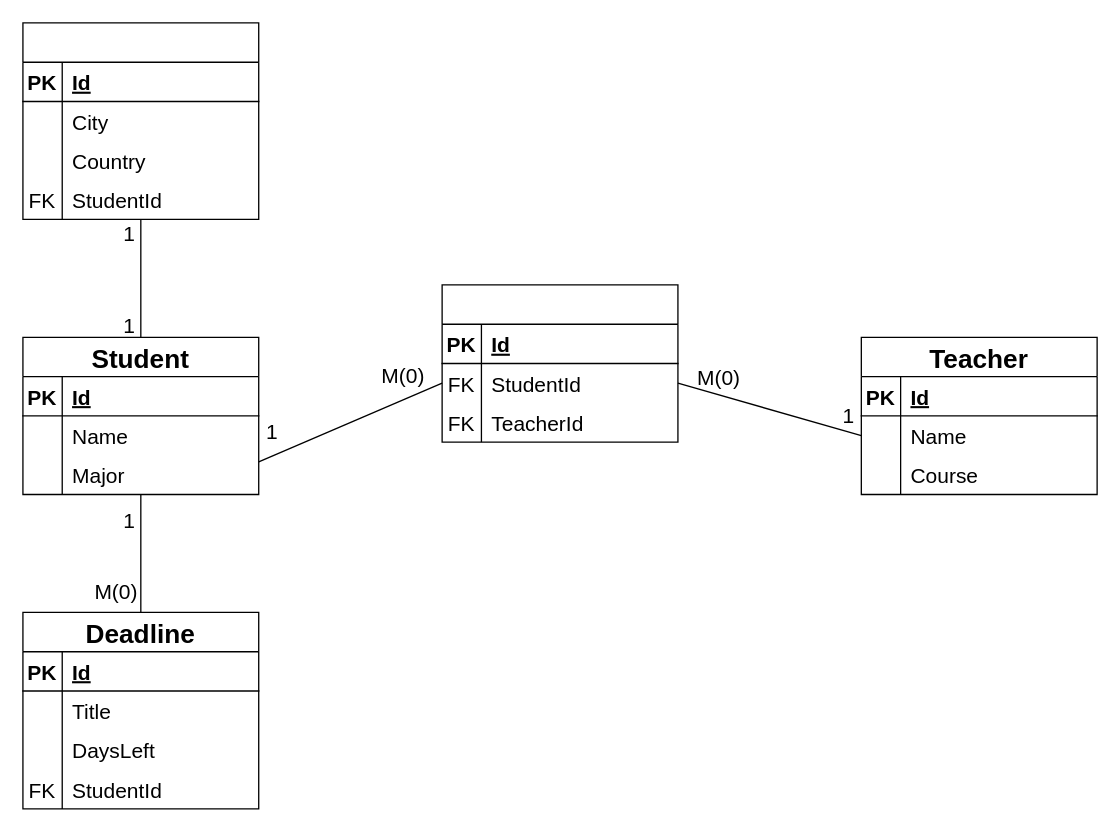
Some shapes in this 1120 by 832 pixel diagram are drawn without their labels. Each missing label, with the box of its shape:
StudentAddress: (22, 22, 259, 219)
StudentTeacher: (441, 284, 678, 442)
